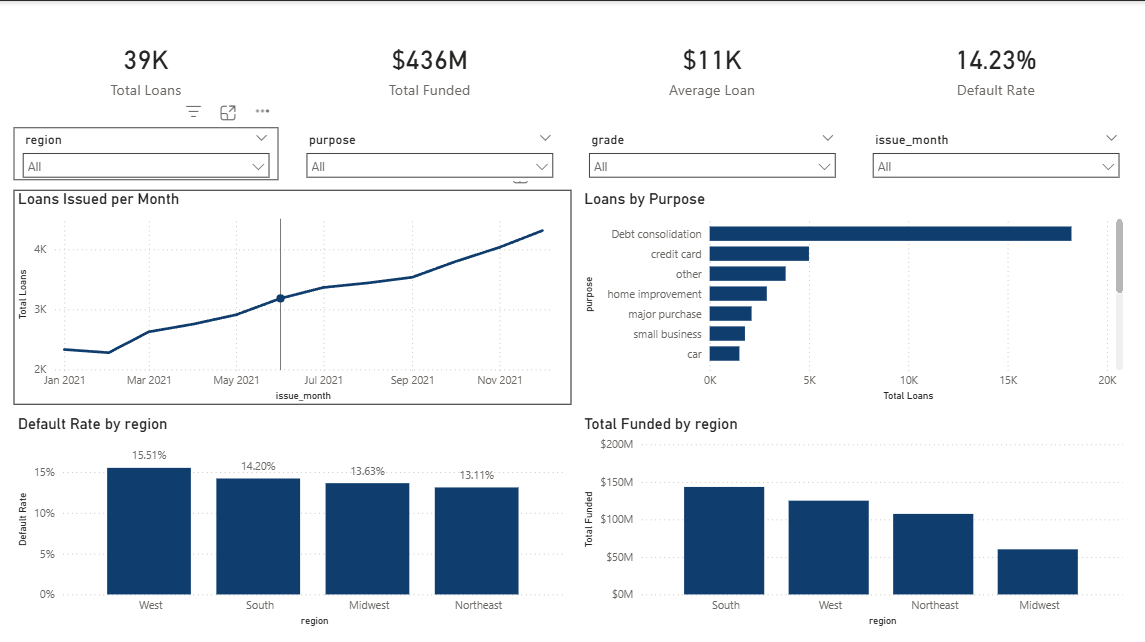

The dashboard page shown, as its layout file describes it:
{"tool":"powerbi","page":{"name":"Executive Overview","canvas":[1280,720],"ordinal":0},"visuals":[{"type":"card","fields":{"Values":["Loans.Total Loans"]},"box":[20,20,295,110],"z":0},{"type":"card","fields":{"Values":["Loans.Total Funded"]},"box":[335,20,295,110],"z":1000},{"type":"card","fields":{"Values":["Loans.Average Loan"]},"box":[650,20,295,110],"z":2000},{"type":"card","fields":{"Values":["Loans.Default Rate"]},"box":[965,20,295,110],"z":3000},{"type":"lineChart","title":"Loans Issued per Month","fields":{"Y":["Loans.Total Loans"],"Category":["Loans.issue_month"]},"box":[20,210,620,240],"z":4000},{"type":"clusteredBarChart","title":"Loans by Purpose","fields":{"Category":["Loans.purpose"],"Y":["Loans.Total Loans"]},"box":[650,210,610,240],"z":5000},{"type":"clusteredColumnChart","fields":{"Category":["Loans.region"],"Y":["Loans.Default Rate"]},"box":[20,460,620,240],"z":6000},{"type":"clusteredColumnChart","fields":{"Category":["Loans.region"],"Y":["Loans.Total Funded"]},"box":[650,460,610,240],"z":7000},{"type":"slicer","fields":{"Values":["Loans.region"]},"box":[20,140,295,60],"z":8000},{"type":"slicer","fields":{"Values":["Loans.purpose"]},"box":[335,140,295,60],"z":9000},{"type":"slicer","fields":{"Values":["Loans.grade"]},"box":[650,140,295,60],"z":10000},{"type":"slicer","fields":{"Values":["Loans.issue_month"]},"box":[965,140,295,60],"z":11000}]}

Visuals, with their boxes in screenshot pixels (x1, y1, x2, y2), scaled from the page's 1280x720 canvas onto the 1145x642 screenshot:
card - Loans.Total Loans: left=18, top=18, right=282, bottom=116
card - Loans.Total Funded: left=300, top=18, right=564, bottom=116
card - Loans.Average Loan: left=581, top=18, right=845, bottom=116
card - Loans.Default Rate: left=863, top=18, right=1127, bottom=116
"Loans Issued per Month" lineChart: left=18, top=187, right=572, bottom=401
"Loans by Purpose" clusteredBarChart: left=581, top=187, right=1127, bottom=401
clusteredColumnChart - Loans.region x Loans.Default Rate: left=18, top=410, right=572, bottom=624
clusteredColumnChart - Loans.region x Loans.Total Funded: left=581, top=410, right=1127, bottom=624
slicer - Loans.region: left=18, top=125, right=282, bottom=178
slicer - Loans.purpose: left=300, top=125, right=564, bottom=178
slicer - Loans.grade: left=581, top=125, right=845, bottom=178
slicer - Loans.issue_month: left=863, top=125, right=1127, bottom=178
